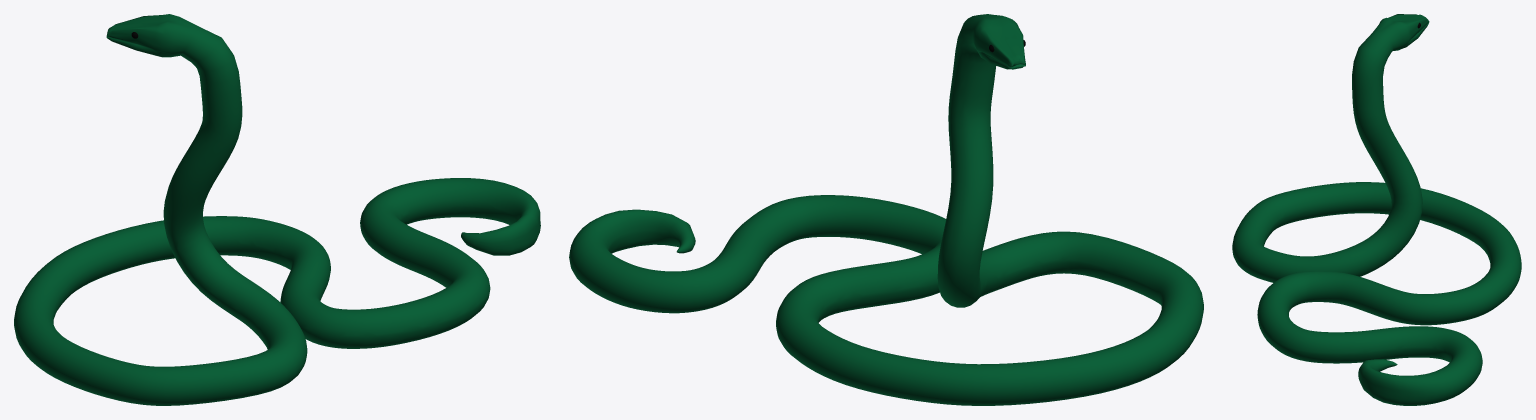
The model's file is snake.glb.
The picture shows the model from 3 angles, left to right: view 1: azimuth 30°, elevation 25°; view 2: azimuth 150°, elevation 25°; view 3: azimuth 270°, elevation 25°; orthographic projection. The views are drawn at different scales.
Parts seen in each view (by area): view 1: pCube2_snake_0; view 2: pCube2_snake_0; view 3: pCube2_snake_0.
Boxes of the visible parts, x1,y1,x2,y2 form: pCube2_snake_0: (14,14,540,405); pCube2_snake_0: (569,14,1203,405); pCube2_snake_0: (1232,14,1521,405).
Bounding box in the file's own units: 15.38 × 8.57 × 9.21.
